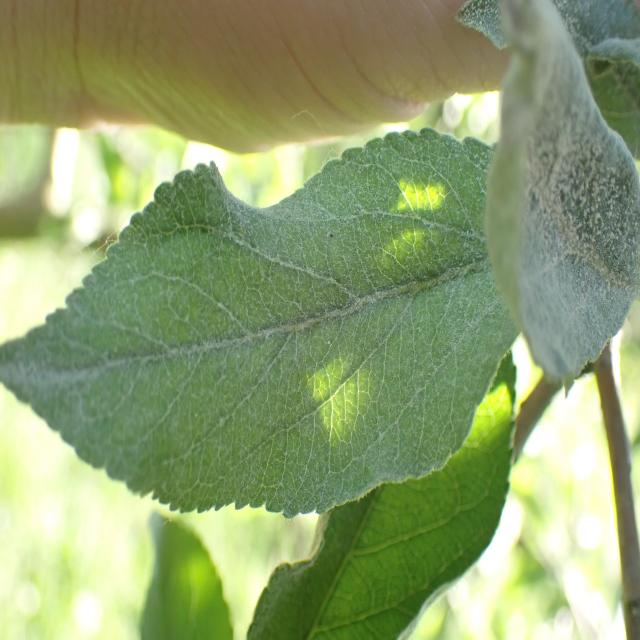Powdery_mildew: (0, 129, 517, 528), (459, 0, 640, 436)
